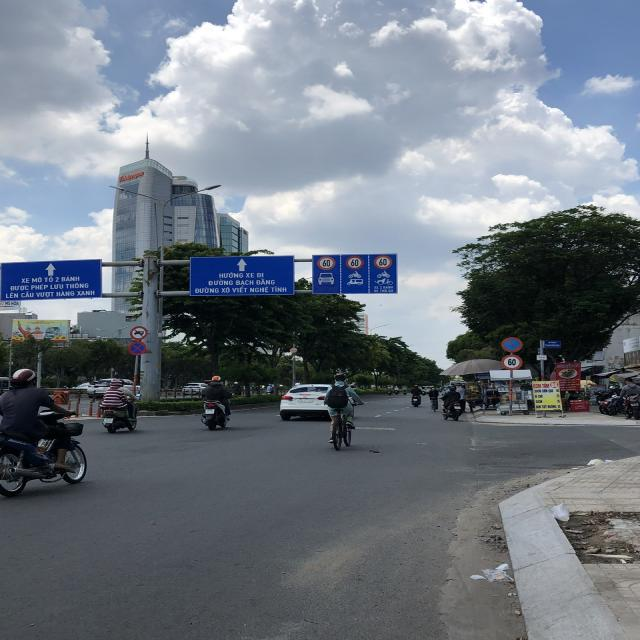Bien bao cam do xe: (501, 336, 524, 354)
Bien bao toc do toi da cho phep: (498, 353, 525, 371), (370, 254, 396, 272), (345, 253, 364, 272), (315, 255, 337, 271)
